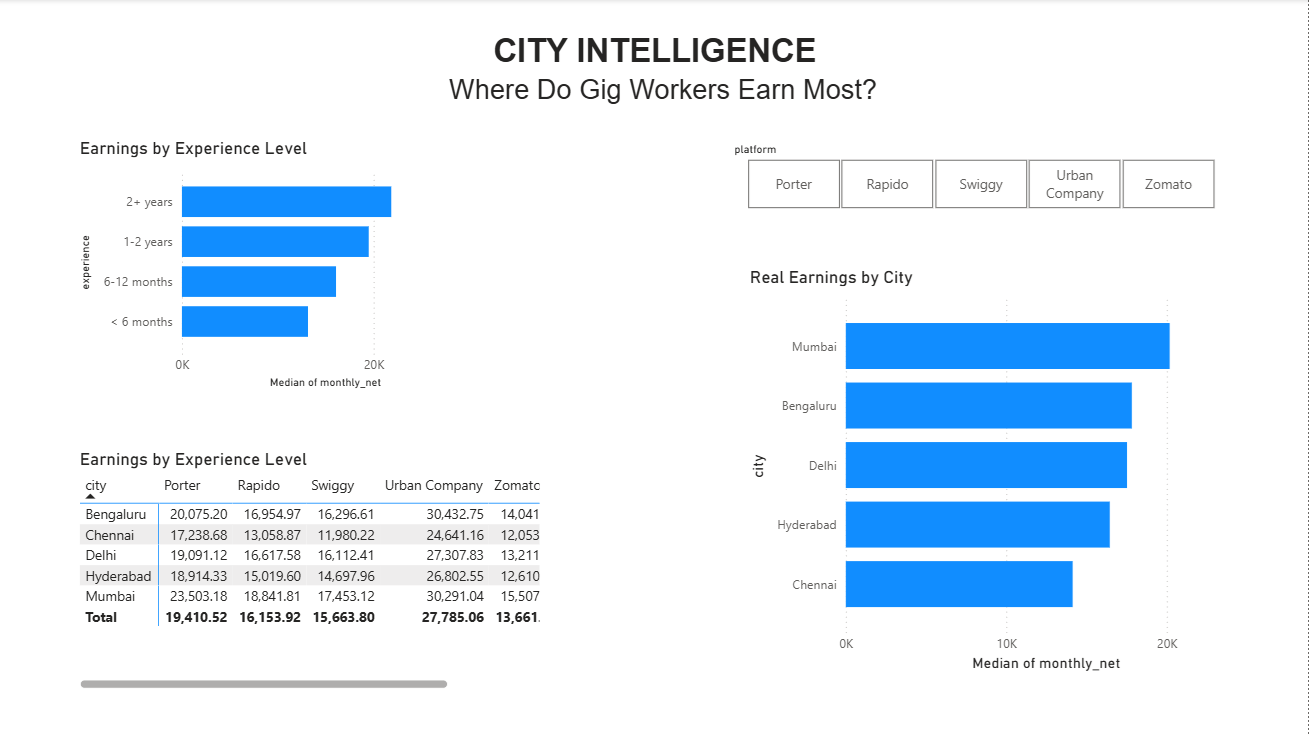

The dashboard page shown, as its layout file describes it:
{"tool":"powerbi","page":{"name":"City Intelligence","canvas":[1280,720],"ordinal":1},"visuals":[{"type":"textbox","box":[9.8,22,1270.5,113.7],"z":0},{"type":"slicer","fields":{"Values":["gig_monthly_with_personas.platform"]},"box":[705.6,135.7,506.3,75.8],"z":1000},{"type":"clusteredBarChart","title":"Real Earnings by City","fields":{"Category":["gig_monthly_with_personas.city"],"Y":["Median(gig_monthly_with_personas.monthly_net)"]},"box":[728.8,261.7,506.3,401.1],"z":2000},{"type":"pivotTable","title":"Earnings by Experience Level","fields":{"Rows":["gig_monthly_with_personas.city"],"Columns":["gig_monthly_with_personas.platform"],"Values":["Median(gig_monthly_with_personas.monthly_net)"]},"box":[73.4,440.2,459.8,239.7],"z":3000},{"type":"clusteredBarChart","title":"Earnings by Experience Level","fields":{"Category":["gig_monthly_with_personas.experience"],"Y":["Median(gig_monthly_with_personas.monthly_net)"]},"box":[73.4,135.7,401.1,250.7],"z":4000}]}

Visuals, with their boxes in screenshot pixels (x1, y1, x2, y2), scaled from the page's 1280x720 canvas onto the 1309x735 screenshot:
textbox: 10:22:1308:139
slicer - gig_monthly_with_personas.platform: 722:139:1239:216
"Real Earnings by City" clusteredBarChart: 745:267:1263:677
"Earnings by Experience Level" pivotTable: 75:449:545:694
"Earnings by Experience Level" clusteredBarChart: 75:139:485:394
